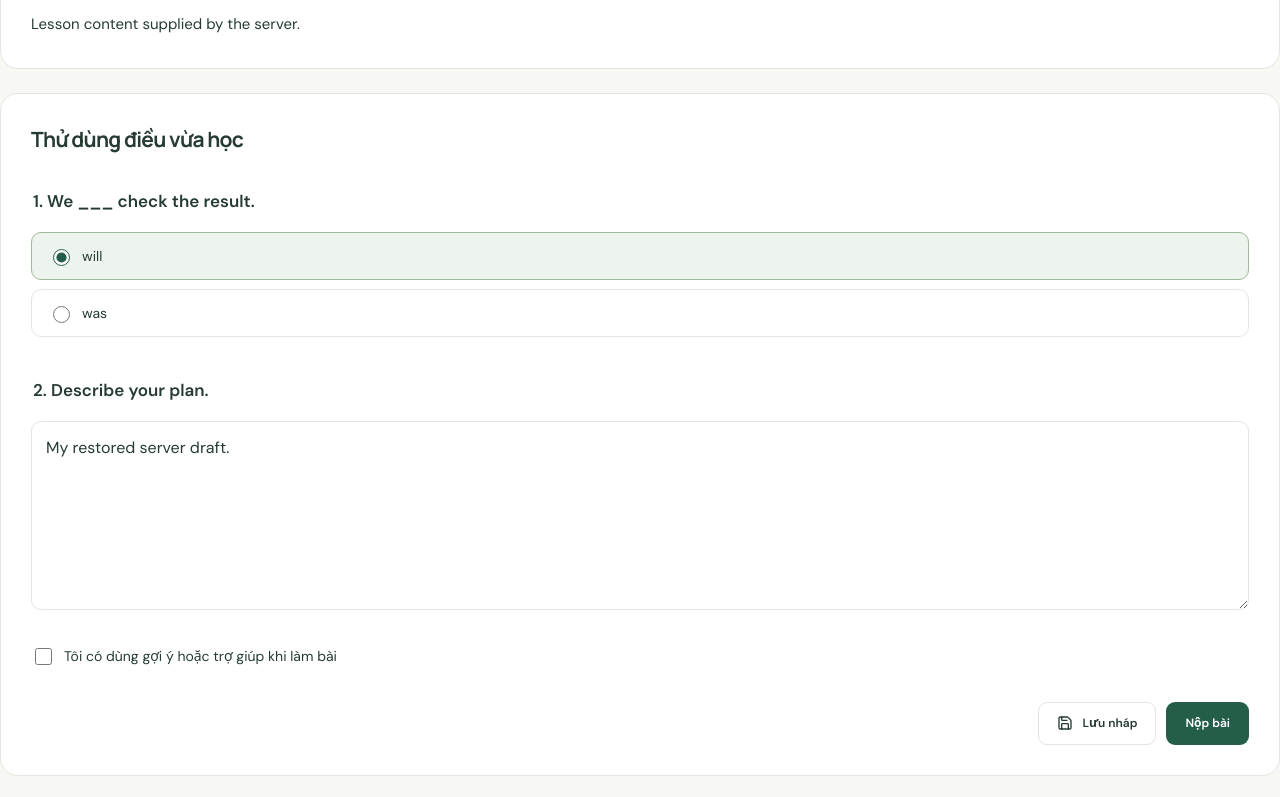
Test: Server-backed lesson drafts and grading › preserves the answers and request UUID on attempt retry and displays only server feedback
(page scrolled)
Replace the text in the text box named "Describe your plan." with "My actual submitted answer.". click: (640, 515)
box: [31,421,1249,610]
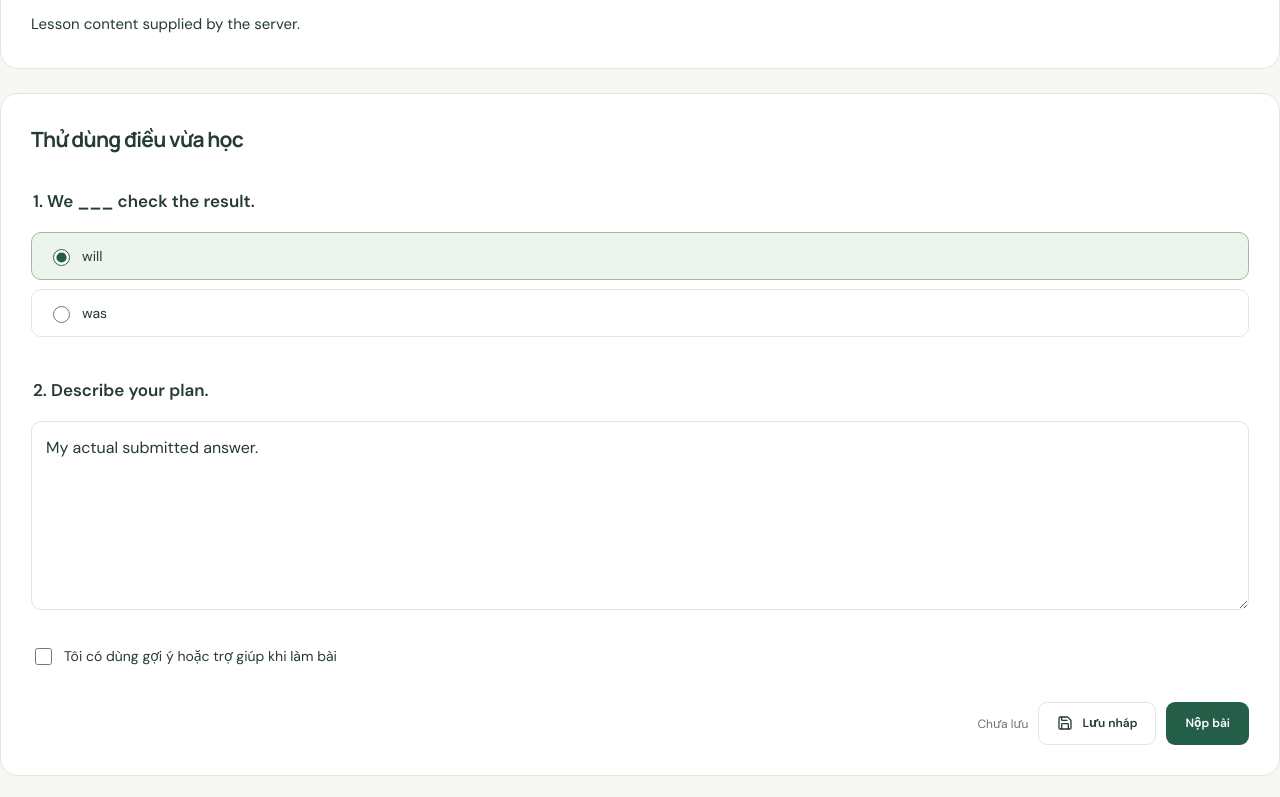
Click the checkbox. click: (44, 657)
box: [35,648,52,665]
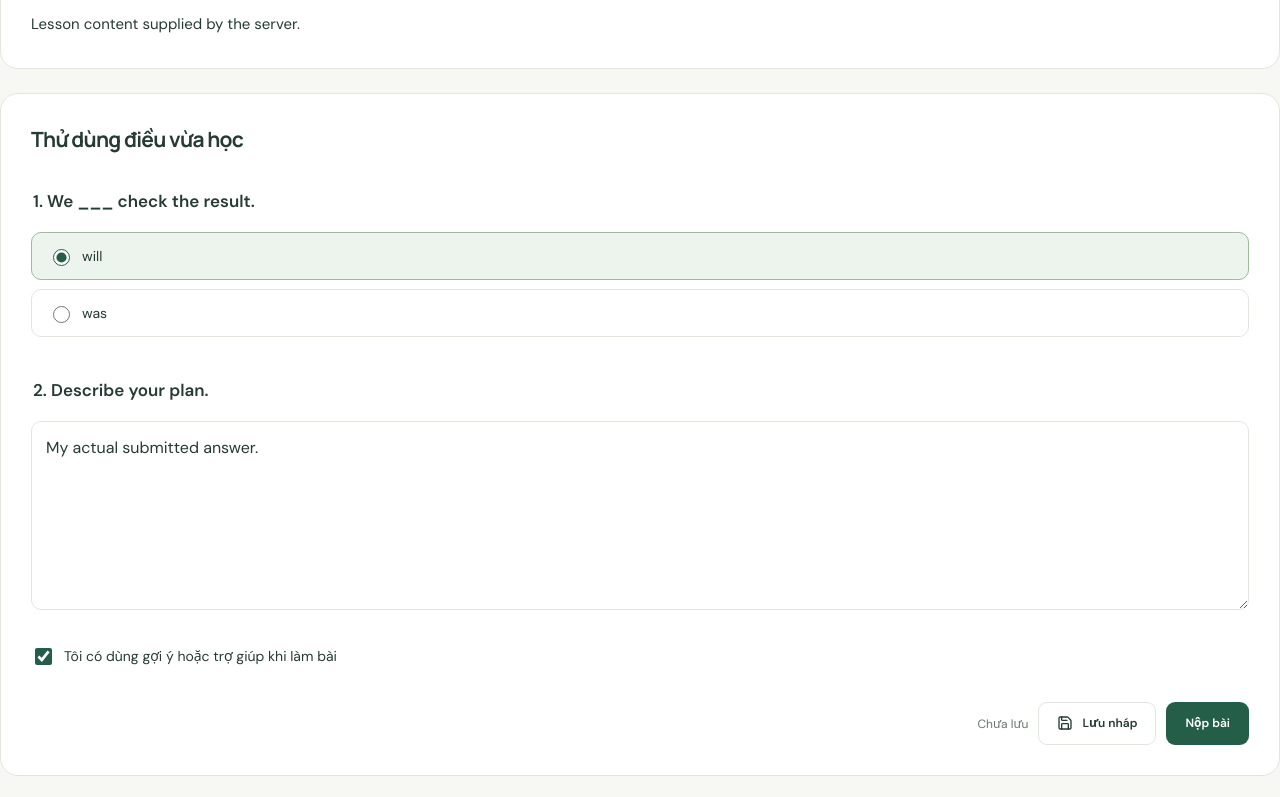
expect the text "37%" is not shown: met
Click the button "Nộp bài". click: (1208, 723)
box: [1166,702,1249,745]
(page scrolled)
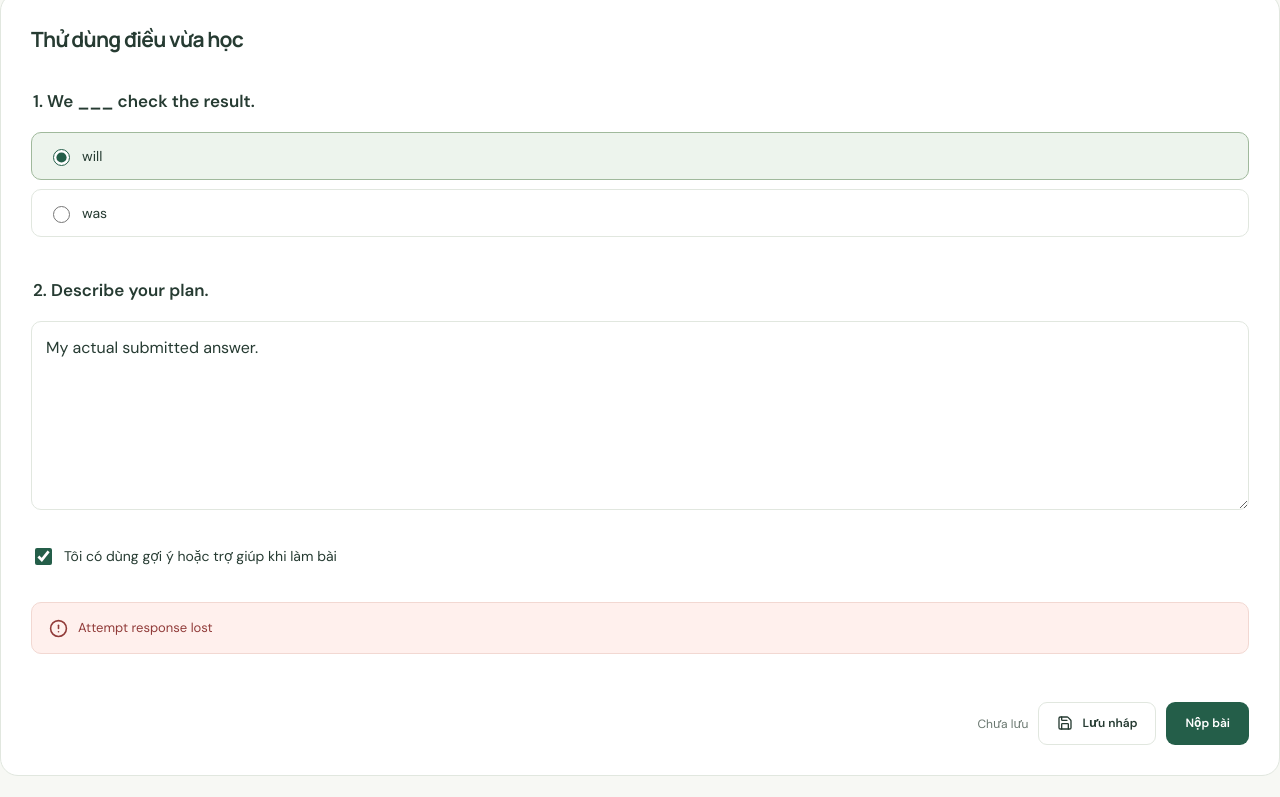
expect the checkbox is checked: met, box [35,548,52,565]
expect the message "Attempt response lost" is shown: met, box [31,602,1249,654]
Click the button "Nộp bài". click: (1208, 723)
box: [1166,702,1249,745]
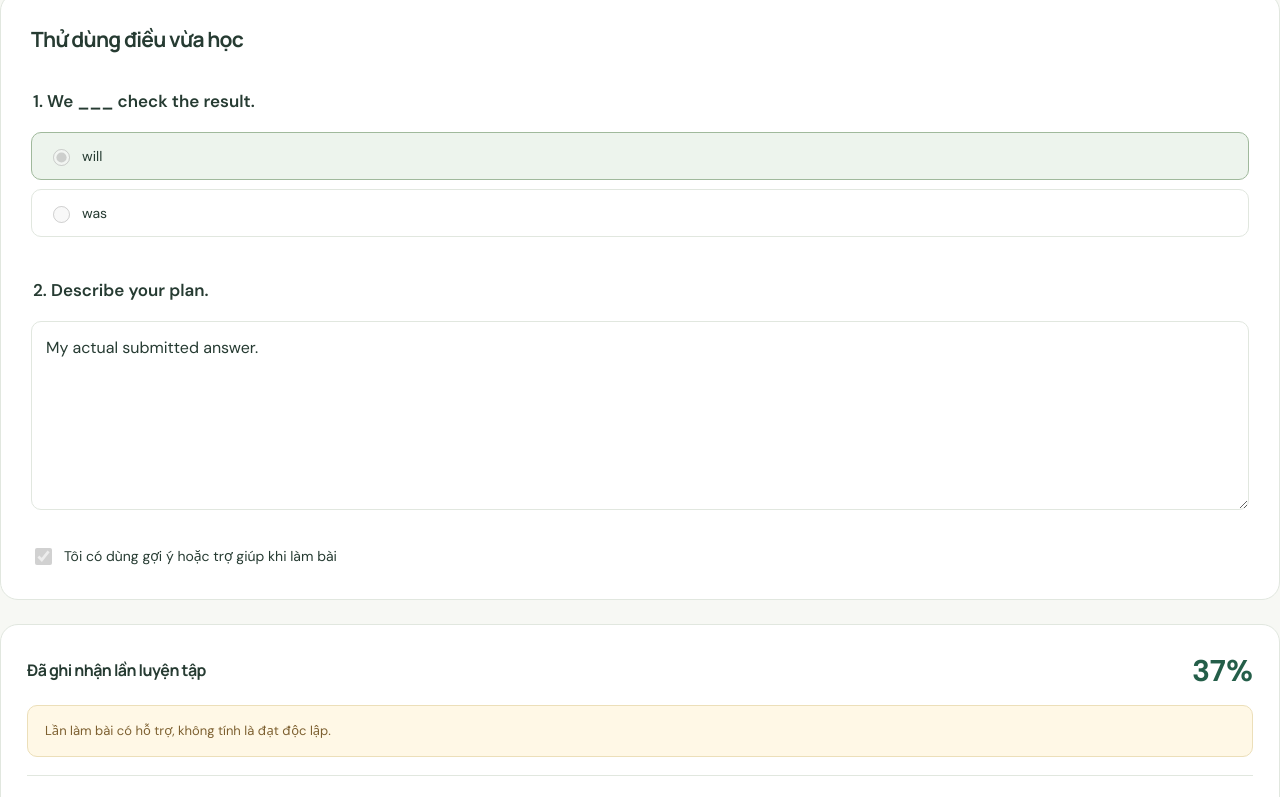
expect the text box named "Describe your plan." is disabled: met, box [31,321,1249,510]
expect the text "37%" is shown: met, box [1192,651,1253,690]
